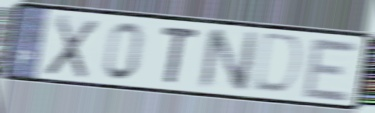0: (101, 20, 147, 84)
D: (249, 30, 305, 98)
E: (300, 35, 361, 104)
N: (196, 26, 262, 94)
T: (159, 23, 202, 86)
X: (42, 12, 101, 81)
